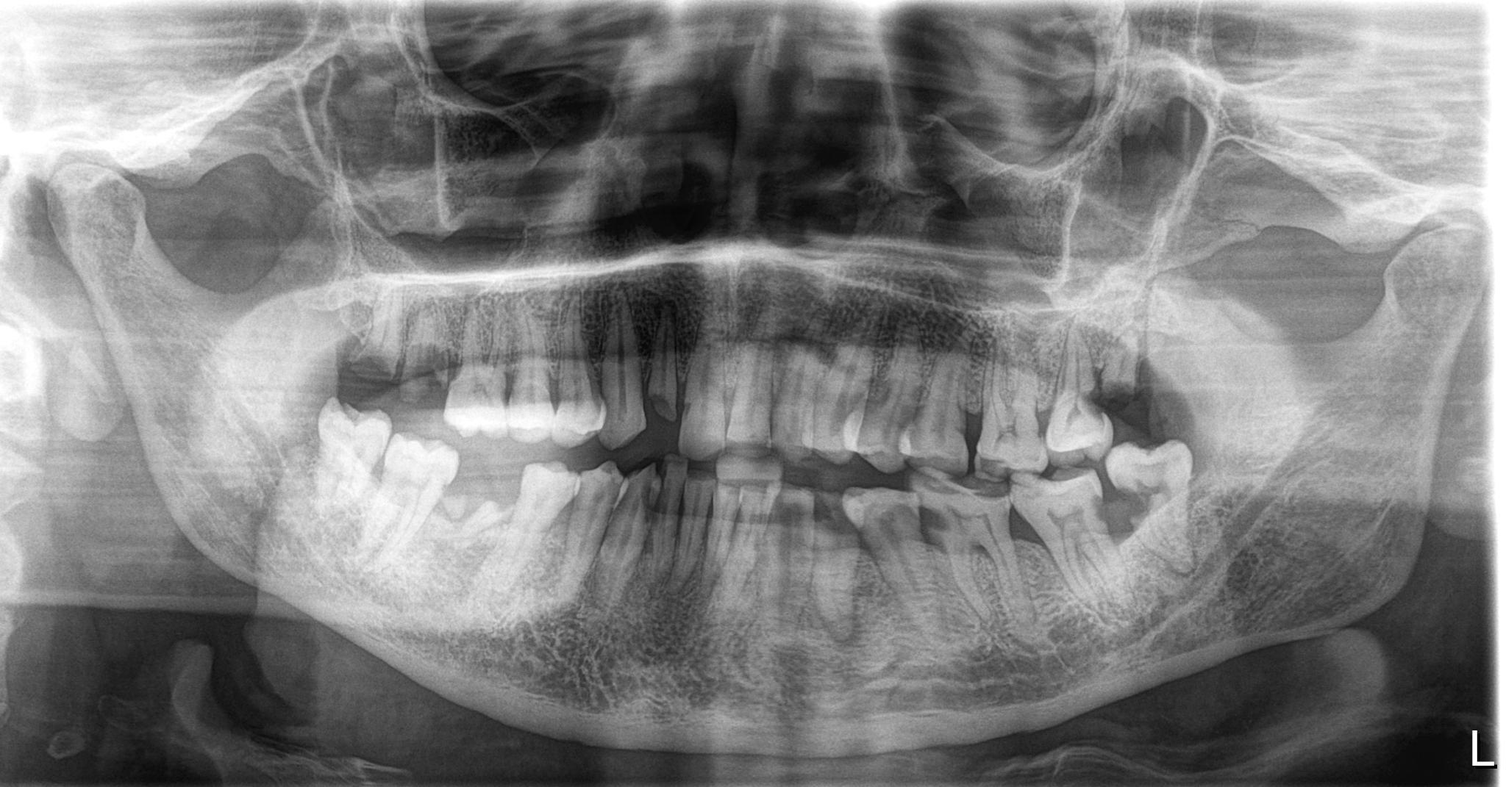Dental Caries: (866, 389, 920, 464), (881, 503, 957, 555), (1099, 481, 1151, 546), (645, 389, 677, 425)
Periapical Lesion: (1155, 503, 1263, 615)
Retained Root: (438, 445, 540, 624), (357, 314, 460, 408)
Tooth Fracture: (1090, 366, 1183, 449)
